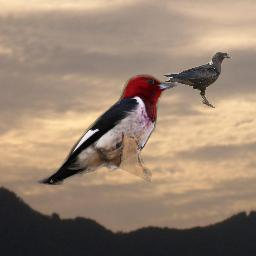Crow: (164, 52, 232, 108)
Woodpecker: (35, 73, 181, 185)
